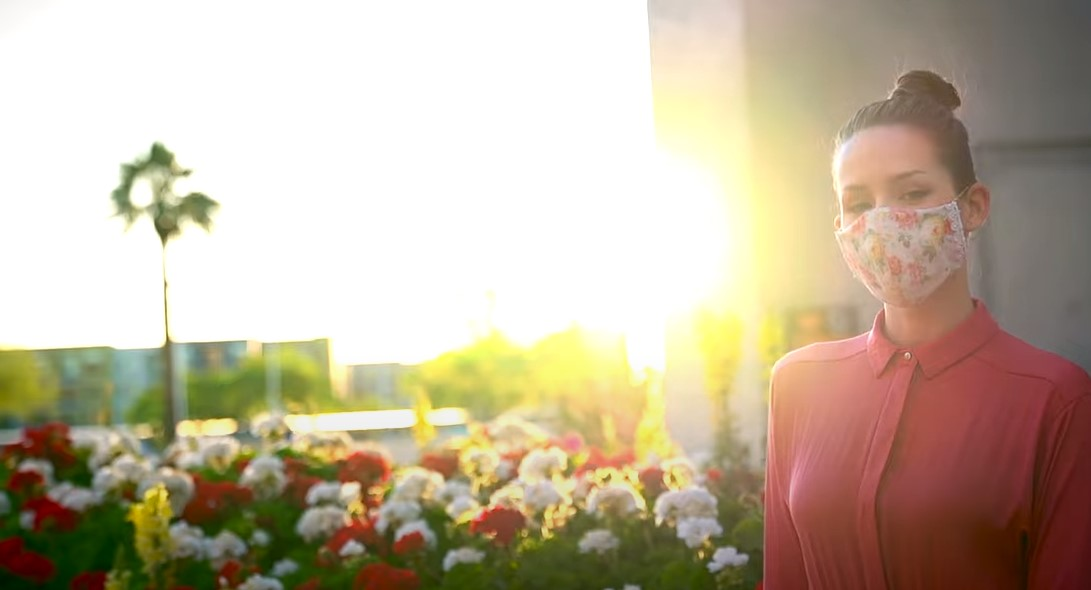face_with_mask: (830, 103, 989, 305)
